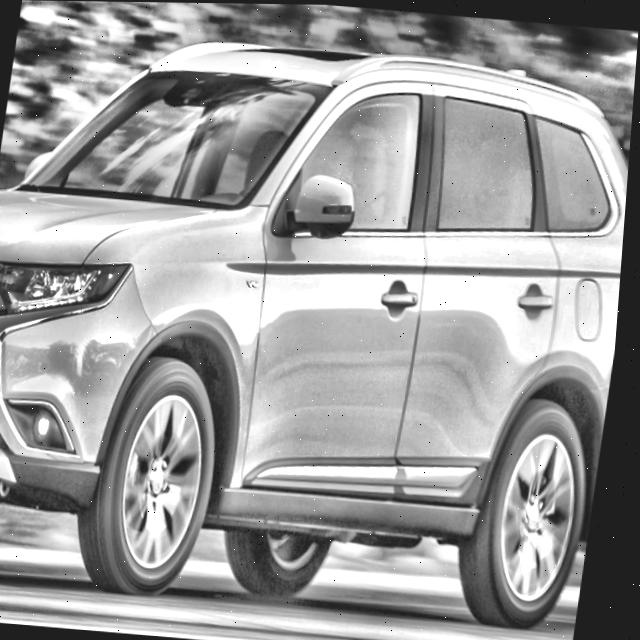light_vehicle: (0, 18, 639, 634)
